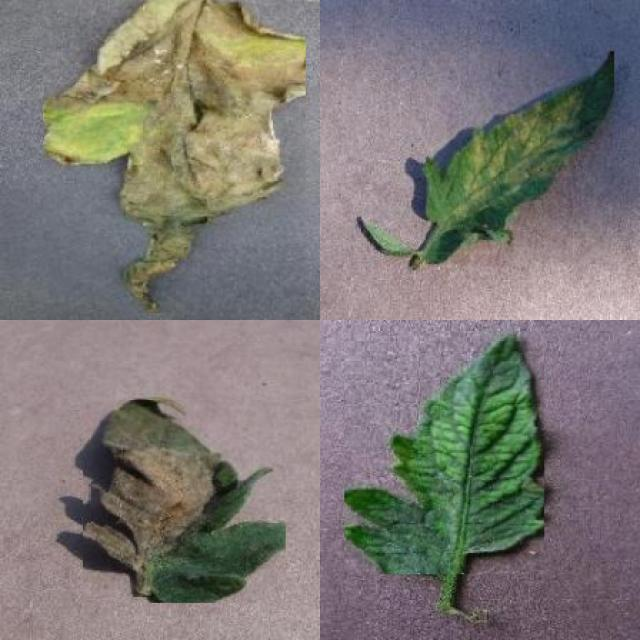Late Blight: (44, 0, 306, 313), (84, 397, 286, 603)
Leaf Mold: (426, 52, 615, 264)
Mosaic Virus: (345, 332, 545, 574)
